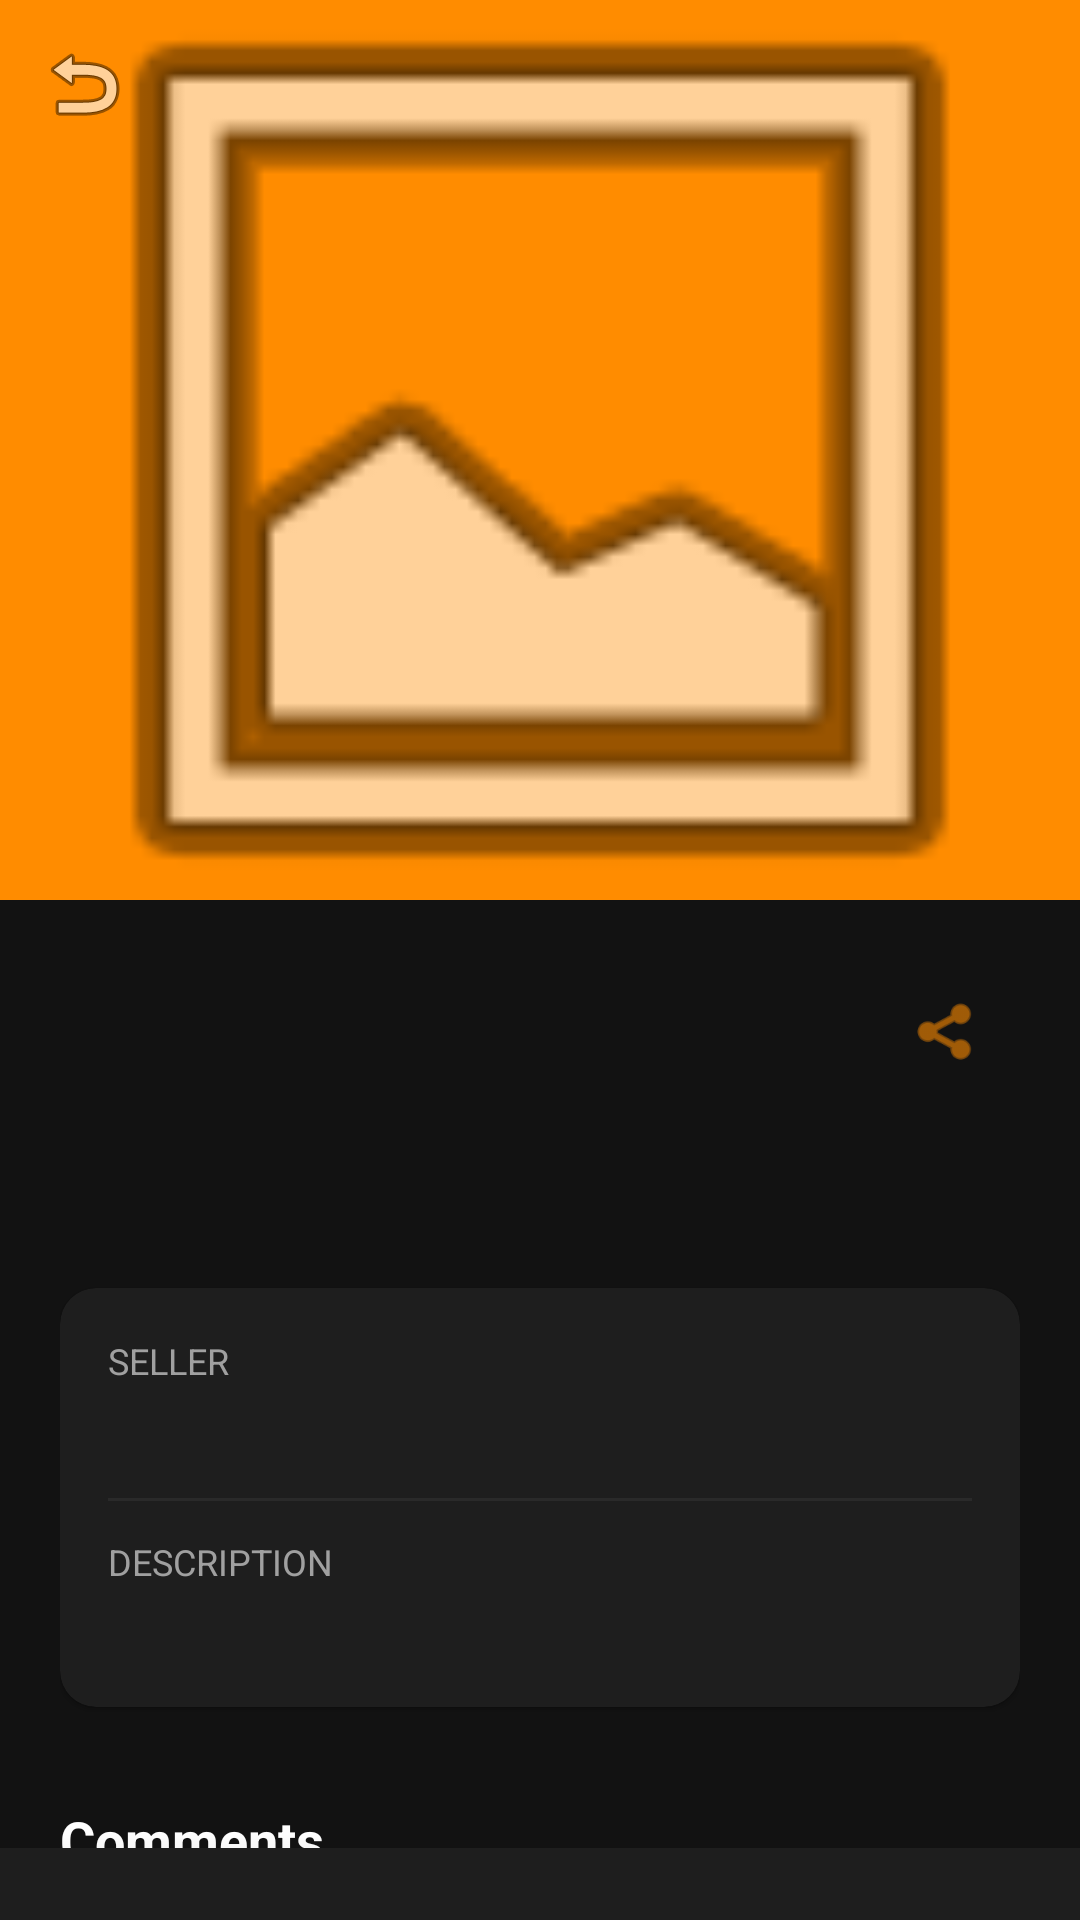

Screen size 1080x1920. Icon name, then its box in pixels as (x1=x1, y1=y1, x2=x2, y2=y2):
share: (x1=917, y1=1003, x2=971, y2=1060)
